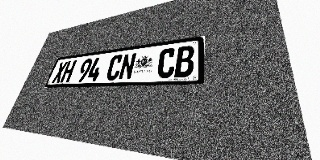4: (86, 57, 104, 81)
9: (76, 58, 93, 82)
B: (174, 45, 195, 78)
C: (156, 47, 176, 78), (105, 54, 124, 81)
H: (60, 60, 77, 83)
N: (118, 52, 137, 80)
X: (51, 61, 68, 83)
